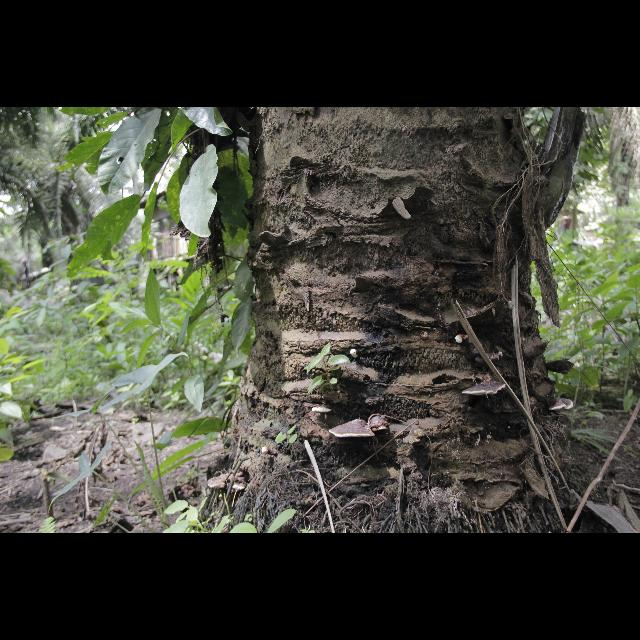ganoderma: (465, 336, 500, 367), (330, 420, 376, 439), (463, 381, 507, 397), (371, 416, 392, 432), (550, 399, 575, 412), (209, 475, 231, 489), (233, 479, 247, 493), (313, 406, 334, 414)
primordium: (262, 448, 271, 457), (352, 351, 361, 360), (456, 336, 464, 345), (509, 301, 514, 311), (500, 353, 504, 359)
